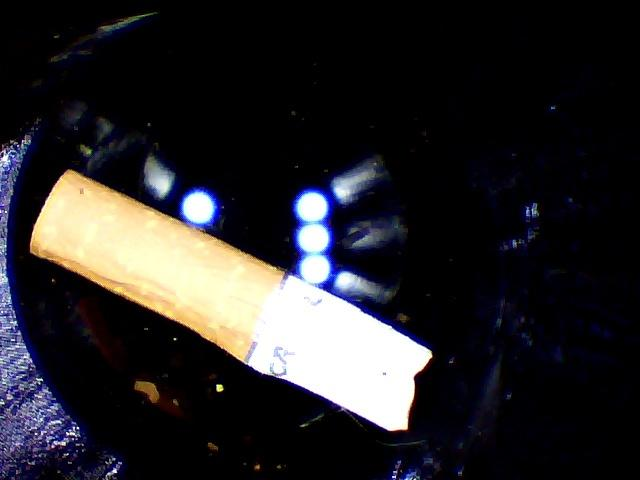megot: (14, 157, 439, 430)
